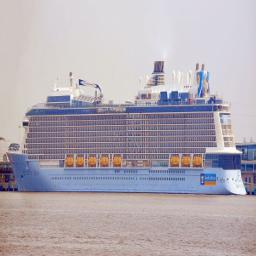cruises: (6, 56, 251, 200)
